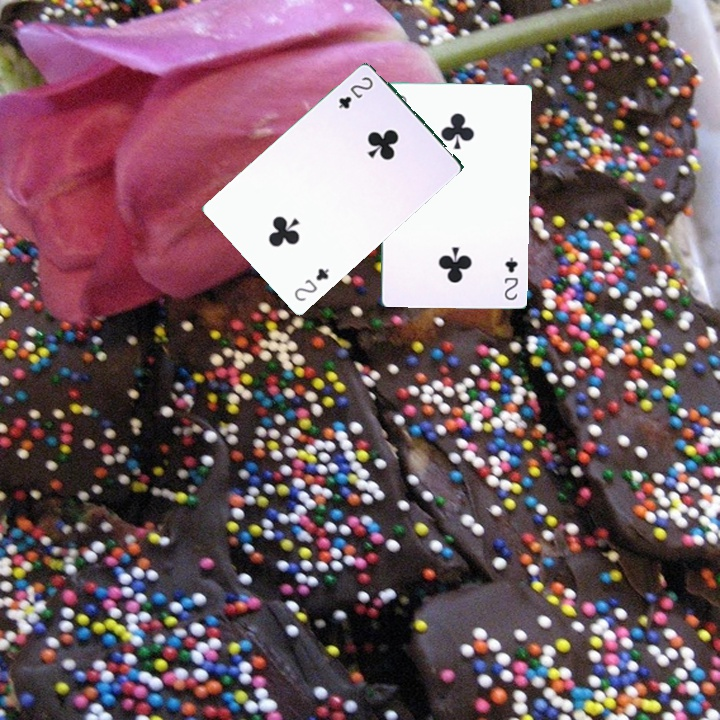2c: (290, 264, 332, 304), (335, 72, 376, 111), (500, 253, 520, 303)
